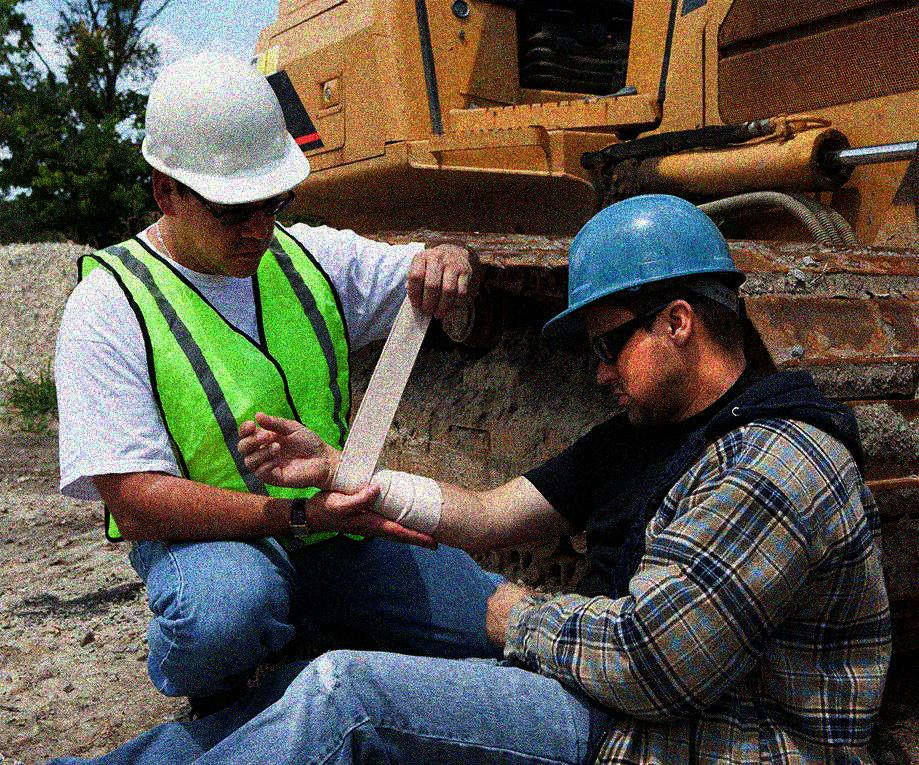helmet: (541, 196, 748, 418), (141, 50, 316, 276)
